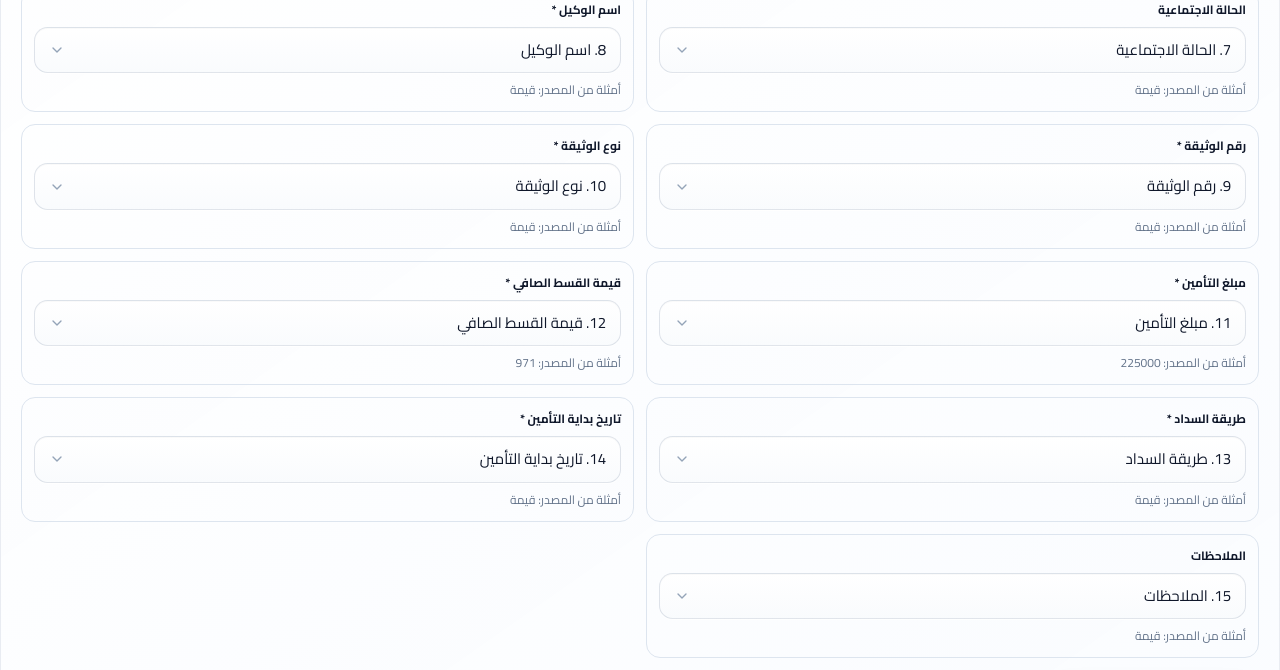
detects a dirty mapping and prevents confirming duplicate source columns
This screenshot has width=1280, height=670.
(page scrolled)
Click the button with aria-label "قيمة القسط الصافي *": click(523, 322) [34,300,621,346]
(page scrolled)
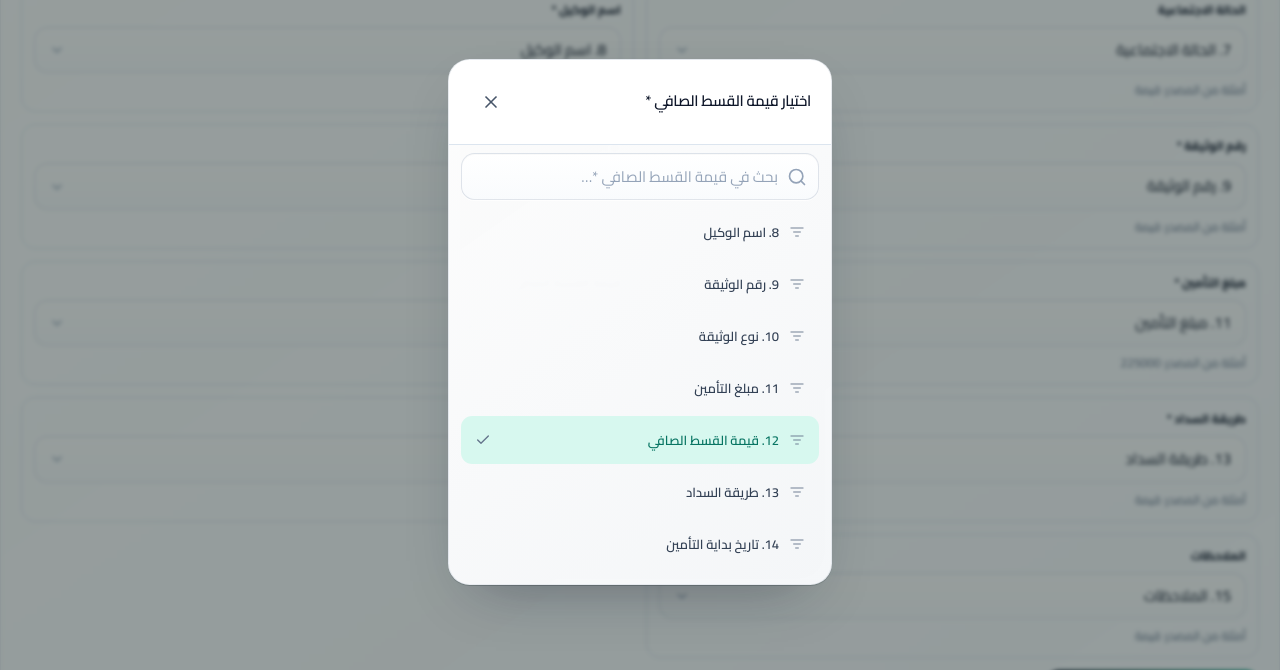
Click the button "11. مبلغ التأمين": click(729, 388) [461,364,819,412]
(page scrolled)
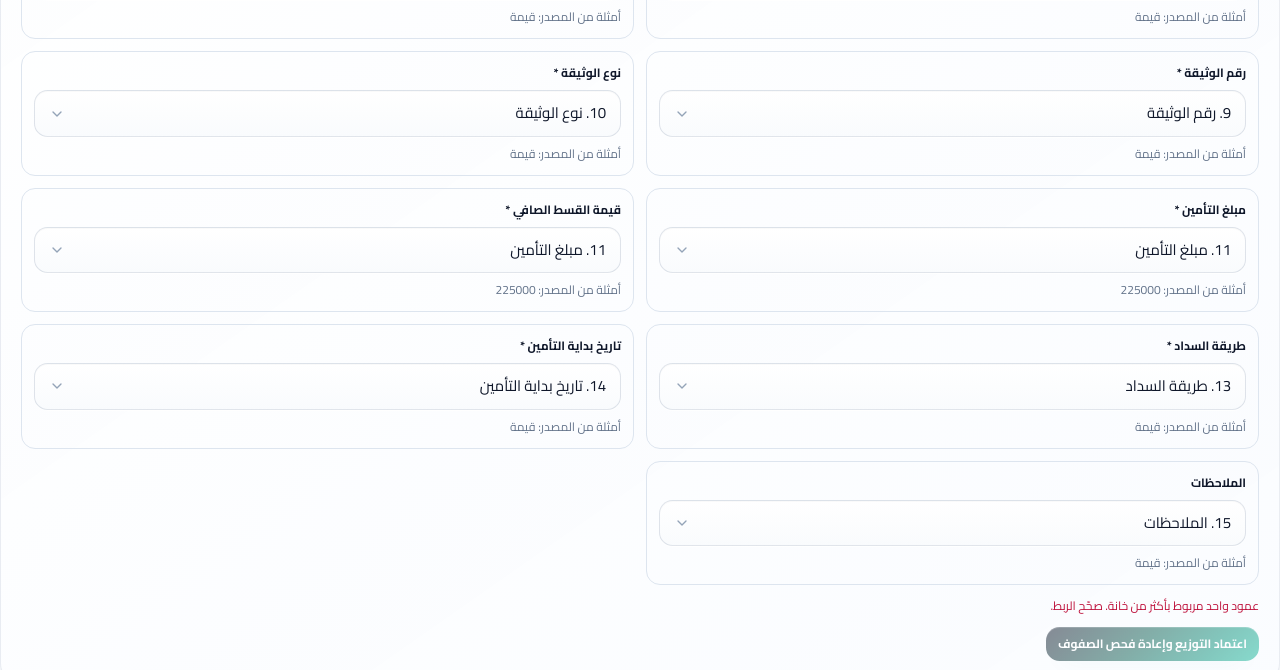
Now the button "اعتماد التوزيع وإعادة فحص الصفوف" is disabled, box [1046,627,1259,661]
Now the message shows "بأكثر من خانة", box [1050,594,1259,617]
